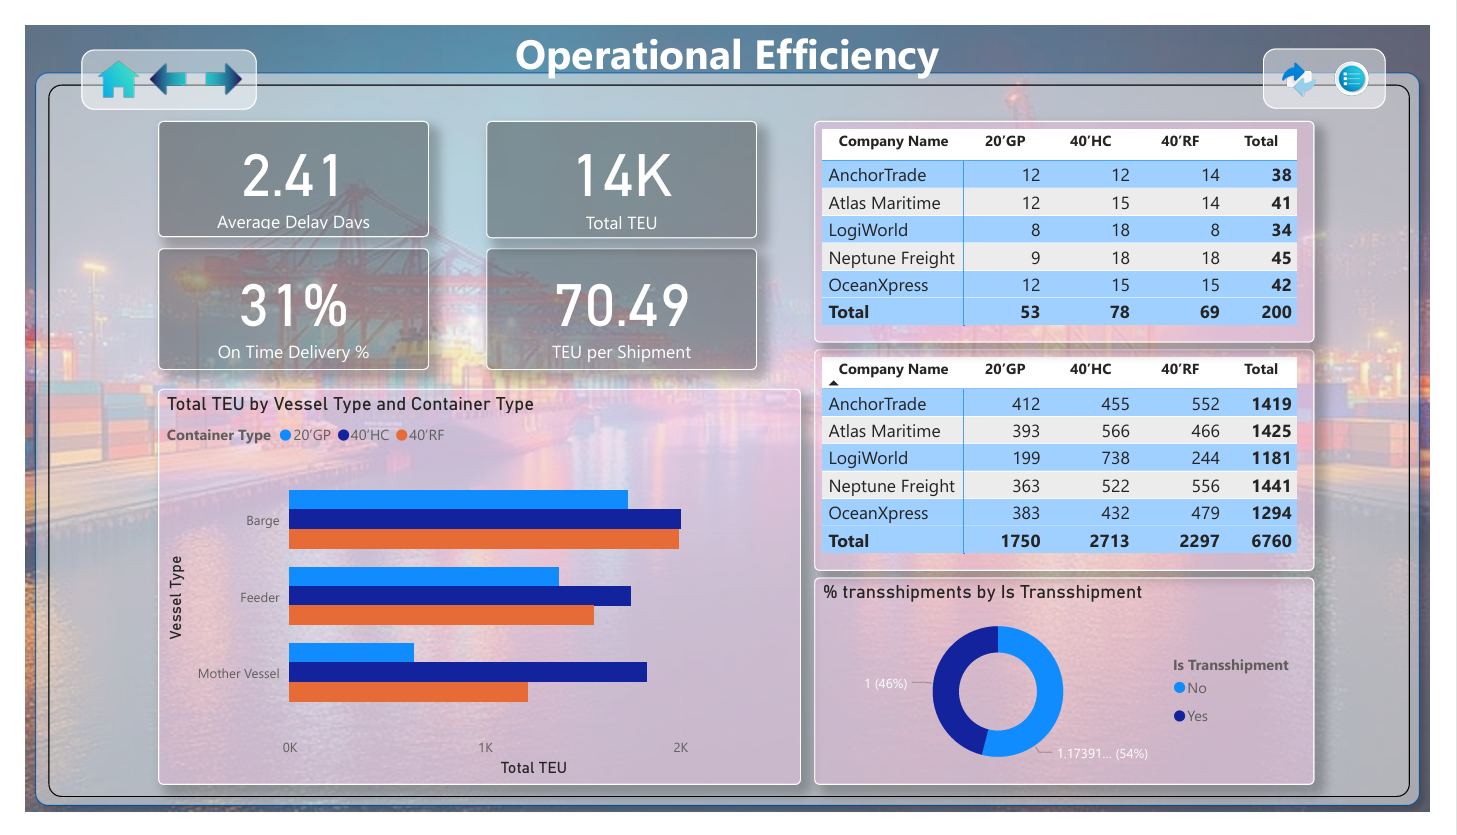

What the dashboard file says about the page in this screenshot:
{"tool":"powerbi","page":{"name":"Operational Efficiency","canvas":[1280,720],"ordinal":3},"visuals":[{"type":"shape","box":[0,34.2,1280.3,686],"z":0},{"type":"shape","box":[20.8,53.8,1241.2,649.3],"z":1000},{"type":"card","fields":{"Values":["Shipping_Data.Average Delay Days"]},"box":[121.1,86.8,247,106.4],"z":2000},{"type":"card","fields":{"Values":["Shipping_Data.On Time Delivery %"]},"box":[121.1,203,247,111.3],"z":3000},{"type":"card","fields":{"Values":["Shipping_Data.TEU per Shipment"]},"box":[420,203,247,111.3],"z":4000},{"type":"clusteredBarChart","fields":{"Category":["Shipping_Data.Vessel Type"],"Y":["Sum(Shipping_Data.TEU)"],"Series":["Shipping_Data.Container Type"]},"box":[120.8,330.9,585.7,360.7],"z":5000},{"type":"pivotTable","fields":{"Rows":["Shipping_Data.Company Name"],"Values":["Sum(Shipping_Data.Container Count)"],"Columns":["Shipping_Data.Container Type"]},"box":[719,295.1,456.1,201.8],"z":6000},{"type":"donutChart","fields":{"Y":["Shipping_Data.% transshipments"],"Category":["Shipping_Data.Is Transshipment"]},"box":[718.8,503.3,456.1,188.3],"z":7000},{"type":"card","fields":{"Values":["Shipping_Data.Total TEU"]},"box":[420,86.8,247,107.6],"z":8000},{"type":"pivotTable","fields":{"Rows":["Shipping_Data.Company Name"],"Values":["Shipping_Data.Total shipments"],"Columns":["Shipping_Data.Container Type"]},"box":[719,86.8,456.1,201.8],"z":9000},{"type":"shape","box":[1127.5,20.8,112.5,55],"z":10000},{"type":"image","box":[1127.5,22,67.3,53.8],"z":11000},{"type":"shape","box":[51.4,22,160,55],"z":12000},{"type":"image","box":[48.9,22,72.1,53.8],"z":13000},{"type":"image","box":[149.2,26.9,62.4,44],"z":14000},{"type":"image","box":[99,26.9,62.4,44],"z":15000},{"type":"image","box":[1184.2,26.7,48.3,49.2],"z":16000},{"type":"textbox","box":[407.2,0,464.7,74.6],"z":17000},{"type":"shape","title":"FINANCIAL PERFORMANCE","box":[1025.6,78.2,211.6,39.1],"z":18000},{"type":"shape","box":[1025.6,118.6,211.6,39.1],"z":19000},{"type":"shape","box":[1025.6,157.7,211.6,39.1],"z":20000},{"type":"shape","box":[1025.4,197,211.5,39.2],"z":21000}]}

Visuals, with their boxes in screenshot pixels (x1, y1, x2, y2), scaled from the page's 1280x720 canvas onto the 1457x835 screenshot:
shape: box=[0, 40, 1456, 834]
shape: box=[24, 62, 1437, 815]
card - Shipping_Data.Average Delay Days: box=[138, 101, 419, 224]
card - Shipping_Data.On Time Delivery %: box=[138, 235, 419, 365]
card - Shipping_Data.TEU per Shipment: box=[478, 235, 759, 365]
clusteredBarChart - Shipping_Data.Vessel Type x Sum(Shipping_Data.TEU): box=[138, 384, 804, 802]
pivotTable - Shipping_Data.Company Name x Sum(Shipping_Data.Container Count): box=[818, 342, 1338, 576]
donutChart - Shipping_Data.% transshipments x Shipping_Data.Is Transshipment: box=[818, 584, 1337, 802]
card - Shipping_Data.Total TEU: box=[478, 101, 759, 225]
pivotTable - Shipping_Data.Company Name x Shipping_Data.Total shipments: box=[818, 101, 1338, 335]
shape: box=[1283, 24, 1411, 88]
image: box=[1283, 26, 1360, 88]
shape: box=[59, 26, 241, 89]
image: box=[56, 26, 138, 88]
image: box=[170, 31, 241, 82]
image: box=[113, 31, 184, 82]
image: box=[1348, 31, 1403, 88]
textbox: box=[464, 0, 992, 87]
"FINANCIAL PERFORMANCE" shape: box=[1167, 91, 1408, 136]
shape: box=[1167, 138, 1408, 183]
shape: box=[1167, 183, 1408, 228]
shape: box=[1167, 228, 1408, 274]
